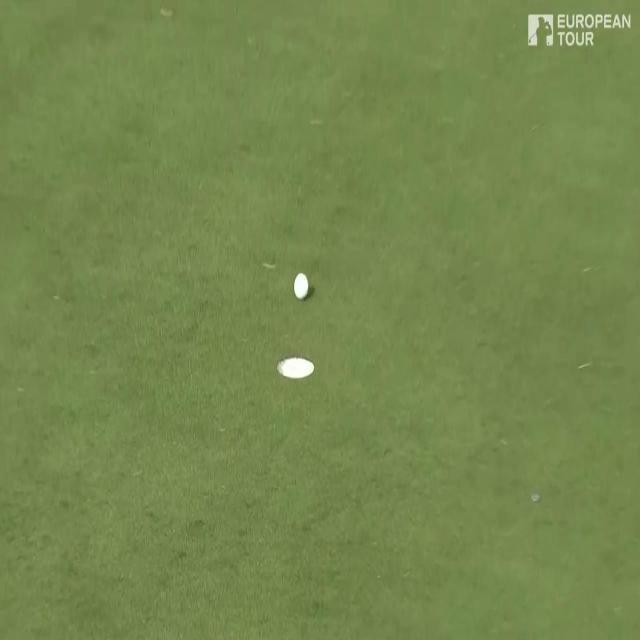GolfBall: (289, 268, 315, 310)
